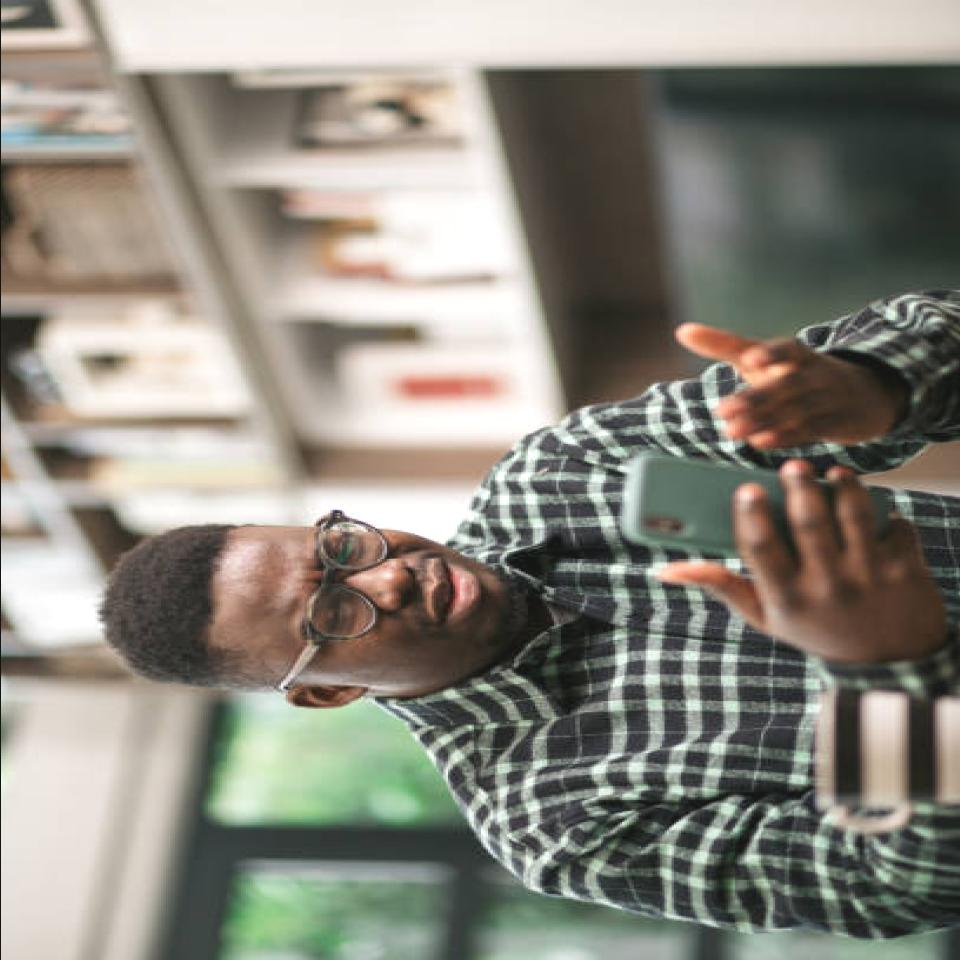Sadness: (214, 528, 512, 682)
